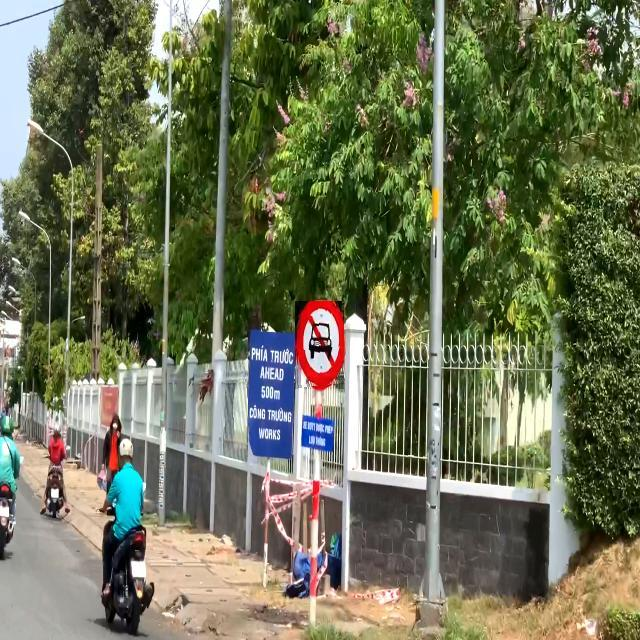P-103a: (295, 302, 344, 390)
